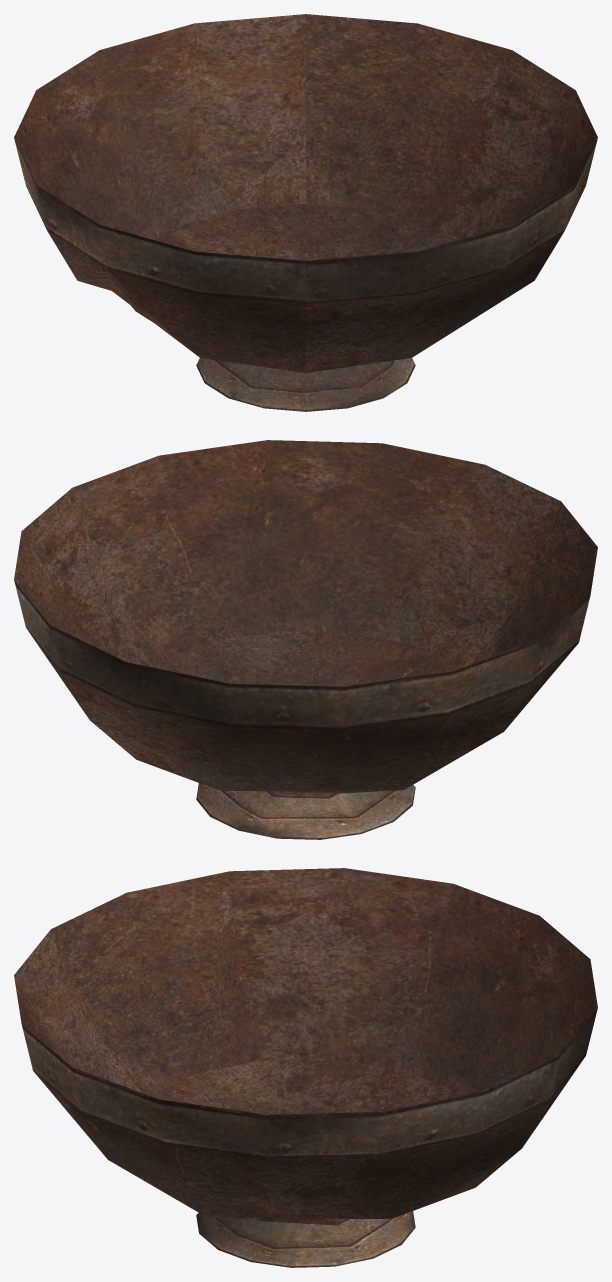
File: Bowl.dae
The picture shows the model from 3 angles, top to bottom: view 1: azimuth 30°, elevation 25°; view 2: azimuth 150°, elevation 25°; view 3: azimuth 270°, elevation 25°; orthographic projection.
Visible parts, largest first — view 1: Default_Layer; view 2: Default_Layer; view 3: Default_Layer.
Boxes of the visible parts, x1,y1,x2,y2 form: Default_Layer: (14,14,597,411); Default_Layer: (14,440,597,839); Default_Layer: (14,868,597,1267).
Bounding box in the file's own units: 1.5 × 0.6541 × 1.5.
